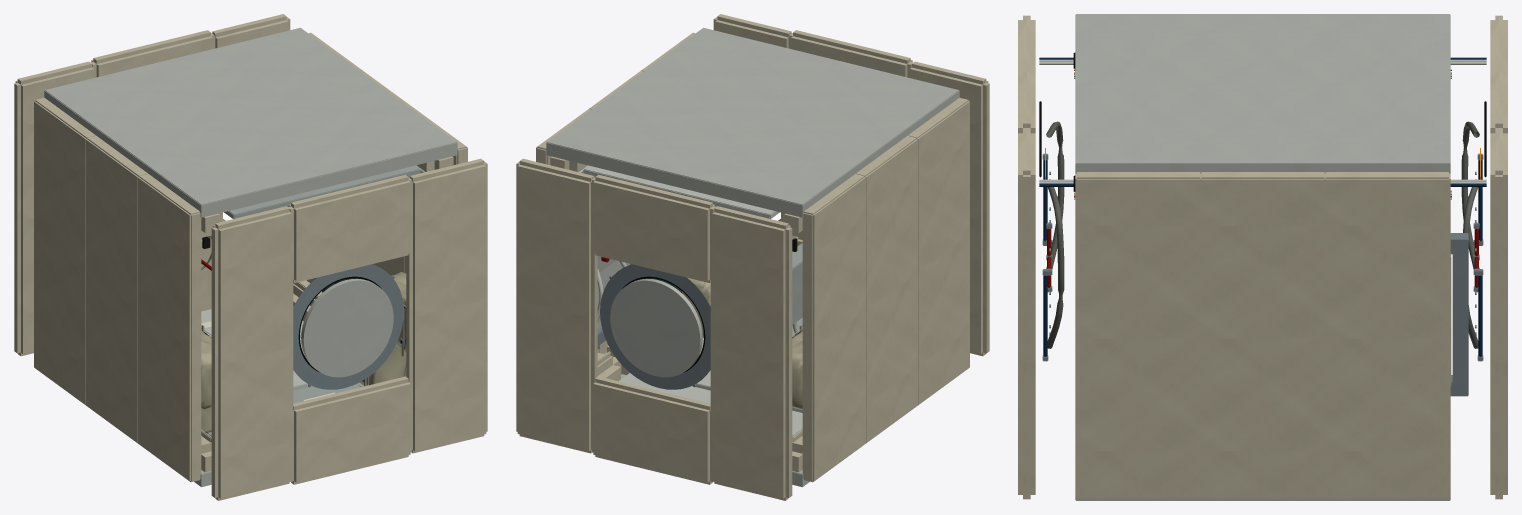
File: poisk.glb
3 renders of one model, left to right at view 1: azimuth 30°, elevation 25°; view 2: azimuth 150°, elevation 25°; view 3: azimuth 270°, elevation 25°, orthographic. The views are drawn at different scales.
Visible parts, largest first — view 1: poisk_detailed; view 2: poisk_detailed; view 3: poisk_detailed.
Part boxes in pixels (x1=…): poisk_detailed: x1=14, y1=14, x2=487, y2=500; poisk_detailed: x1=516, y1=14, x2=989, y2=500; poisk_detailed: x1=1018, y1=14, x2=1507, y2=500.
Bounding box in the file's own units: 3.09 × 3 × 3.94.
Materials: 19 (16 with a texture image).
